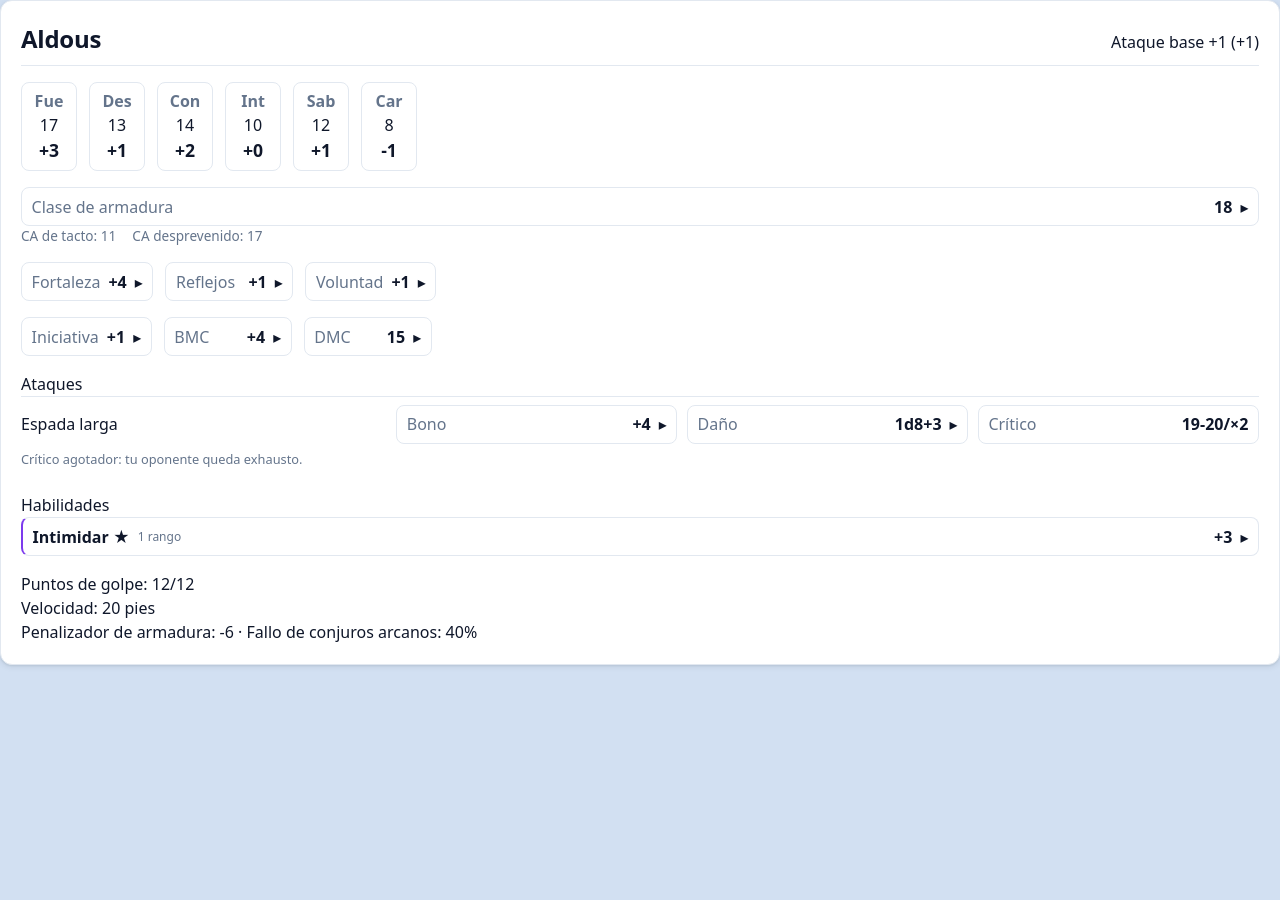
Test: CombatCard › expands the AC to show its breakdown and the suppressed bonus
Click the button "Clase de armadura 18 ▸". click: (102, 207)
box: [22,188,1258,225]
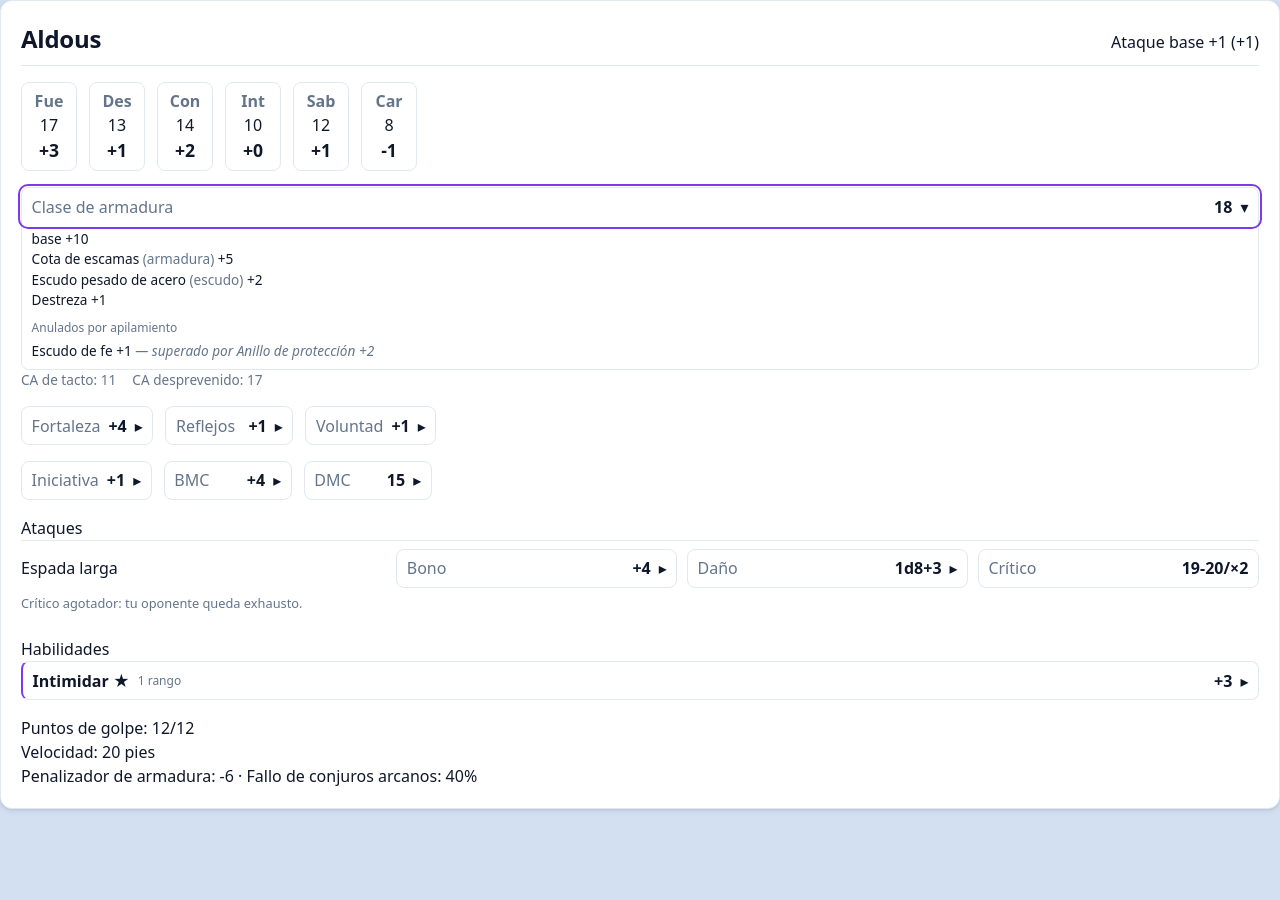
Check: the element named "Clase de armadura" shows "Cota de escamas", box [32,249,139,268]
Check: the element named "Clase de armadura" shows "Escudo de fe", box [32,340,113,360]
